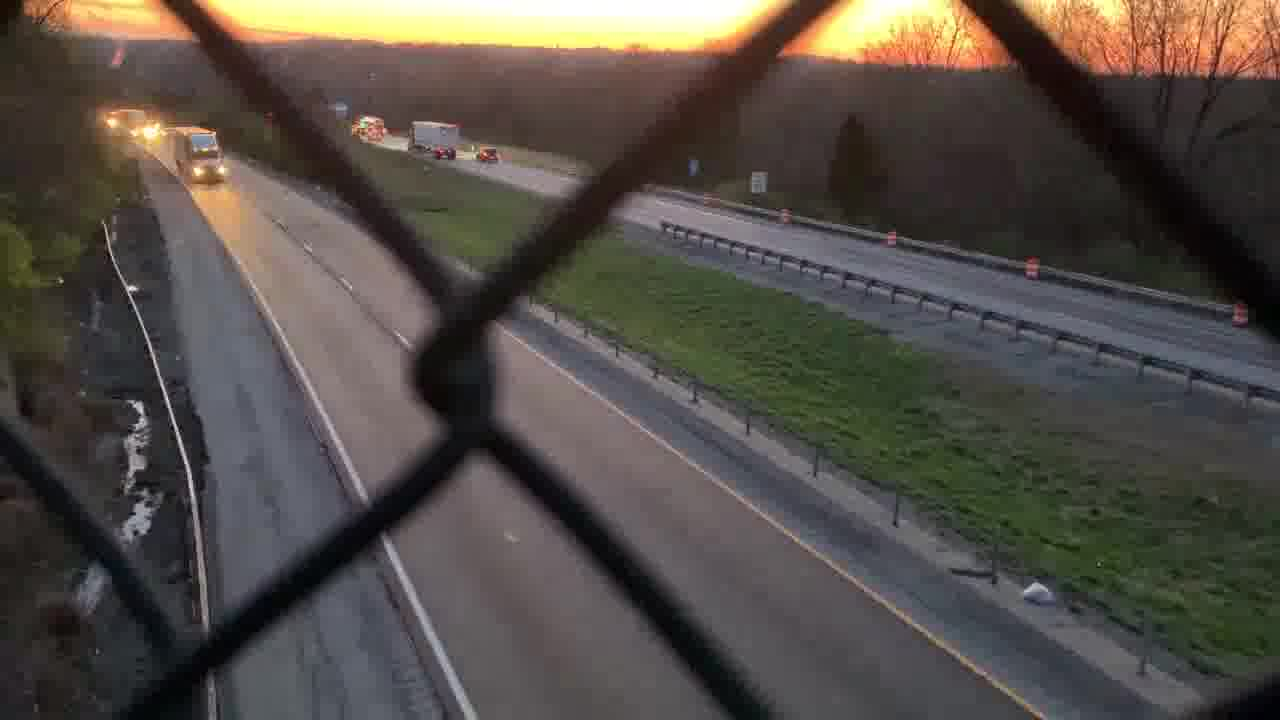heavyTruck: (169, 127, 231, 182), (411, 123, 466, 158)
